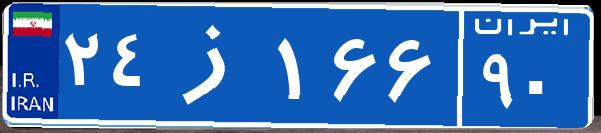0: (525, 38, 570, 115)
1: (273, 28, 330, 110)
2: (57, 26, 110, 107)
4: (110, 28, 158, 105)
6: (385, 28, 445, 110), (330, 28, 385, 110)
9: (475, 38, 525, 113)
ز: (158, 15, 273, 115)
